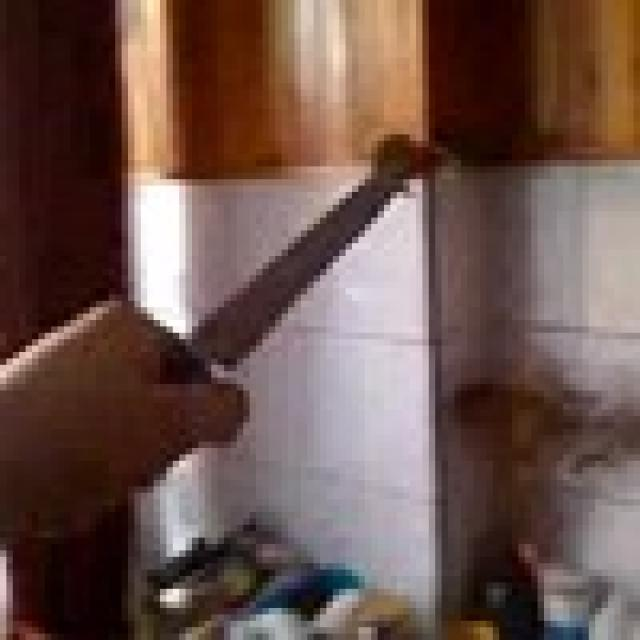Knife: (173, 154, 422, 390)
